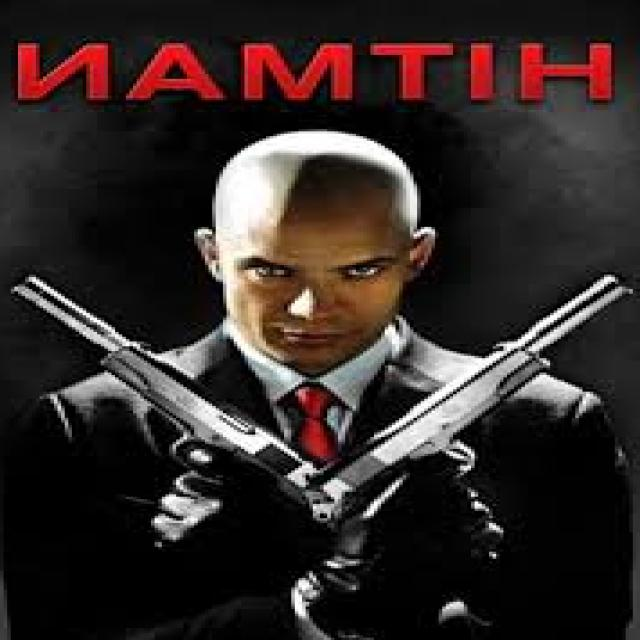gun: (0, 248, 421, 554), (300, 251, 638, 543)
